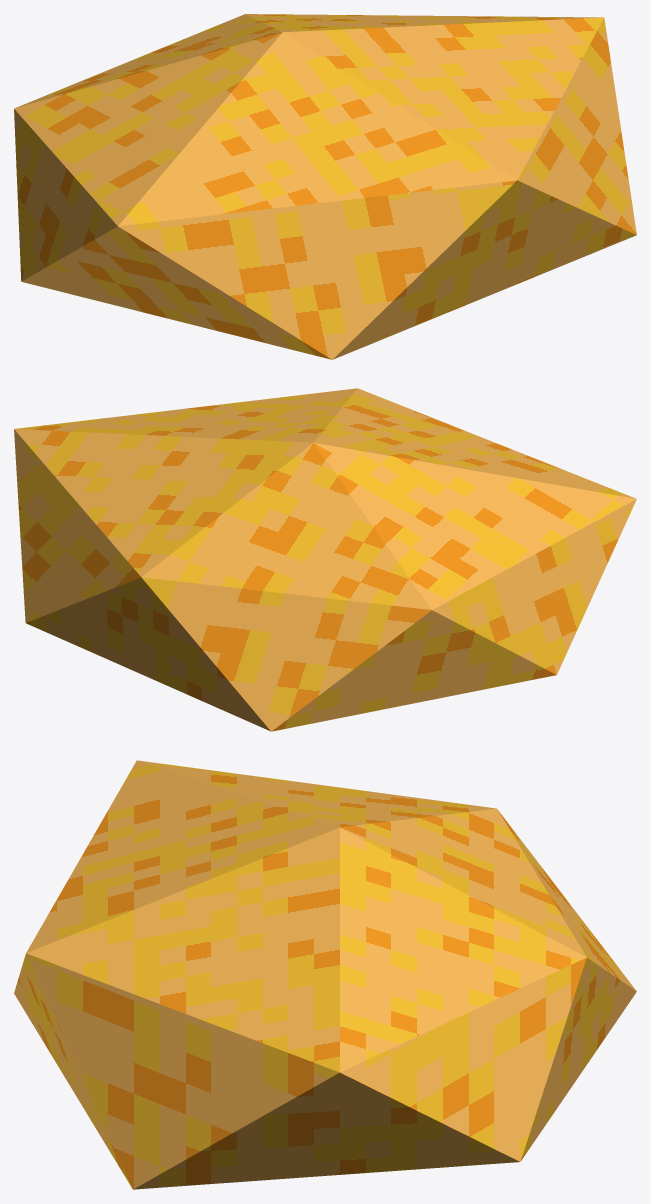
File: r04_duna_pequena.glb
The picture shows the model from 3 angles, top to bottom: view 1: azimuth 30°, elevation 25°; view 2: azimuth 150°, elevation 25°; view 3: azimuth 270°, elevation 25°; orthographic projection. The views are drawn at different scales.
Parts seen in each view (by area): view 1: r04_duna_pequena; view 2: r04_duna_pequena; view 3: r04_duna_pequena.
Boxes of the visible parts, x1,y1,x2,y2 form: r04_duna_pequena: (14,14,636,359); r04_duna_pequena: (14,388,636,731); r04_duna_pequena: (14,760,636,1189).
Size of the model in its own units: 1.82 by 0.7377 by 1.51.
1 material, 1 textured.
